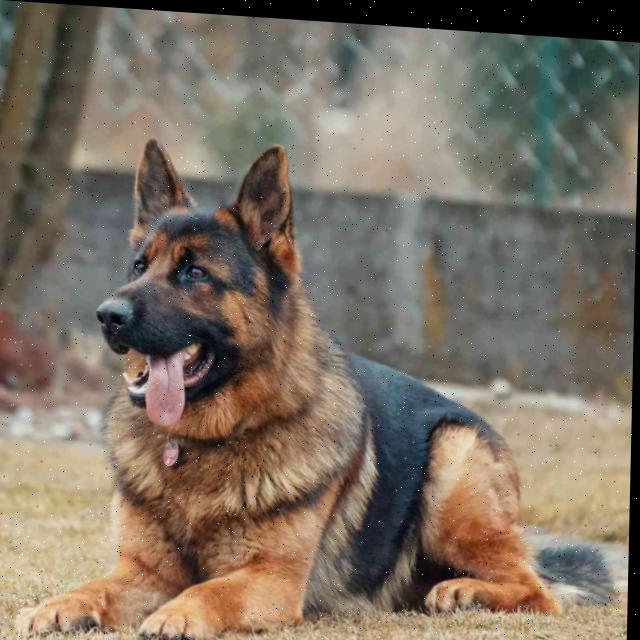GERMAN_SHEPHERD: (22, 104, 634, 640)
